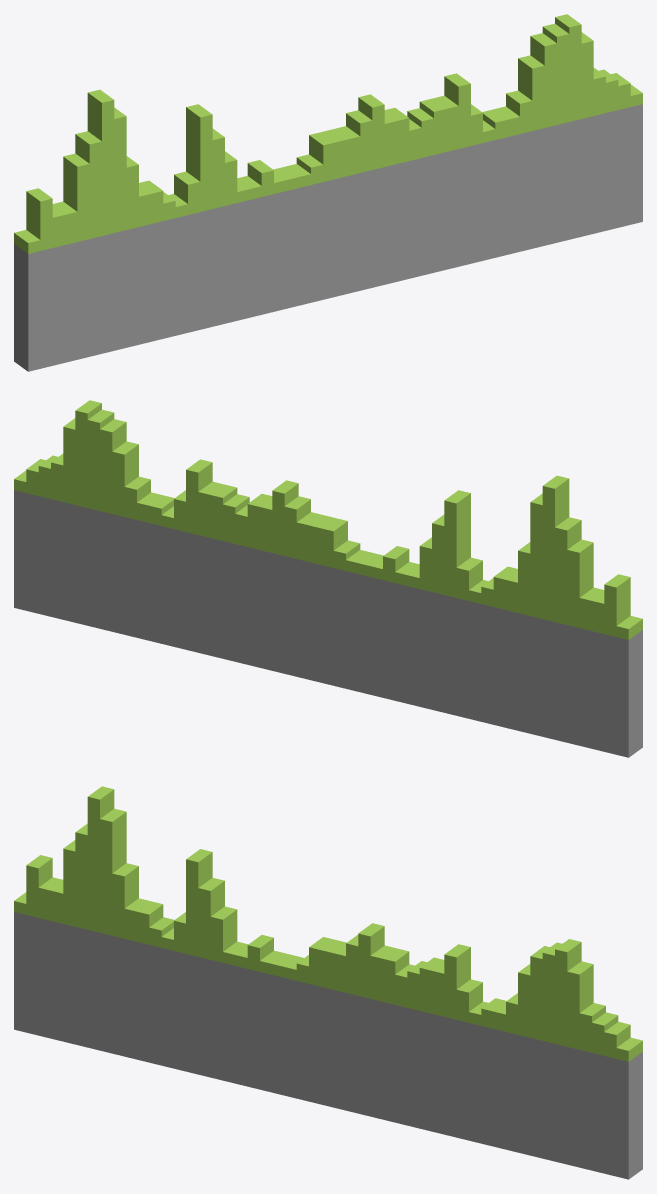
File: Terrain1.fbx
3 views of the same model, one above another, from view 1: azimuth 30°, elevation 25°; view 2: azimuth 150°, elevation 25°; view 3: azimuth 330°, elevation 25° (orthographic).
Visible parts, largest first — view 1: pCube1; view 2: pCube1; view 3: pCube1.
Boxes of the visible parts, left/top/right/bottom form: pCube1: left=14, top=14, right=642, bottom=371; pCube1: left=14, top=400, right=642, bottom=757; pCube1: left=14, top=786, right=642, bottom=1179.
Bounding box in the file's own units: 100 × 39 × 4.
